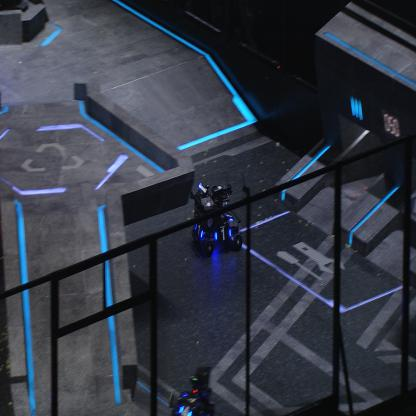car: (190, 181, 243, 258), (170, 364, 218, 416)
